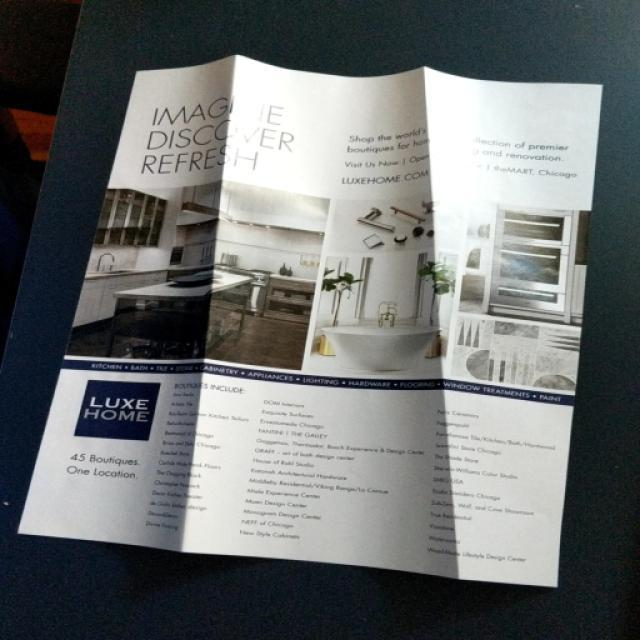document: (21, 56, 601, 585)
